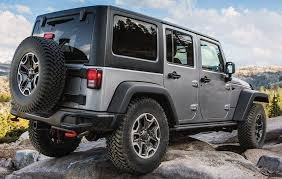mobil: (9, 7, 267, 162)
